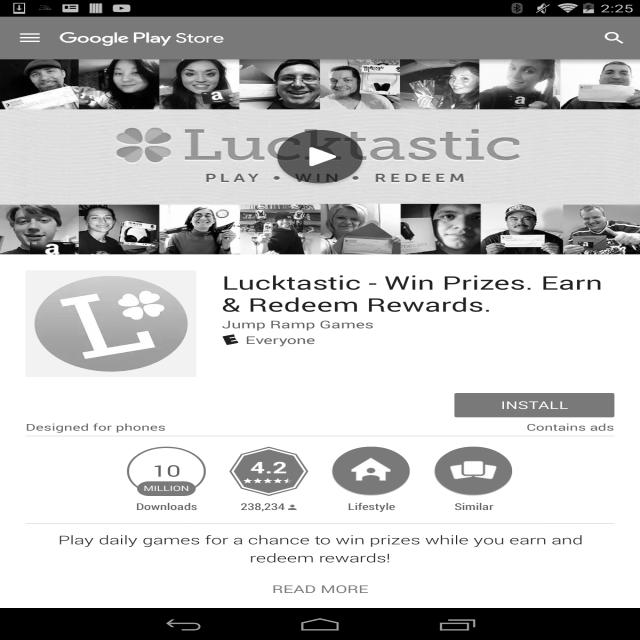Button: (222, 447, 316, 512), (324, 447, 418, 512), (426, 447, 520, 512), (454, 393, 614, 417)
ImageButton: (0, 17, 60, 59)
ImageView: (0, 59, 640, 254), (26, 270, 196, 377), (264, 121, 376, 192), (332, 447, 411, 496), (434, 447, 513, 496), (60, 30, 224, 46), (222, 334, 239, 345), (288, 505, 297, 510)
TextView: (0, 531, 640, 578), (222, 270, 614, 317), (0, 578, 640, 596), (222, 317, 374, 331), (25, 421, 166, 433), (589, 22, 640, 54), (324, 496, 418, 513), (426, 496, 520, 513), (120, 496, 213, 513), (526, 421, 614, 433), (245, 333, 316, 347), (250, 456, 288, 478), (240, 496, 285, 513), (152, 462, 181, 481), (142, 484, 192, 493)
